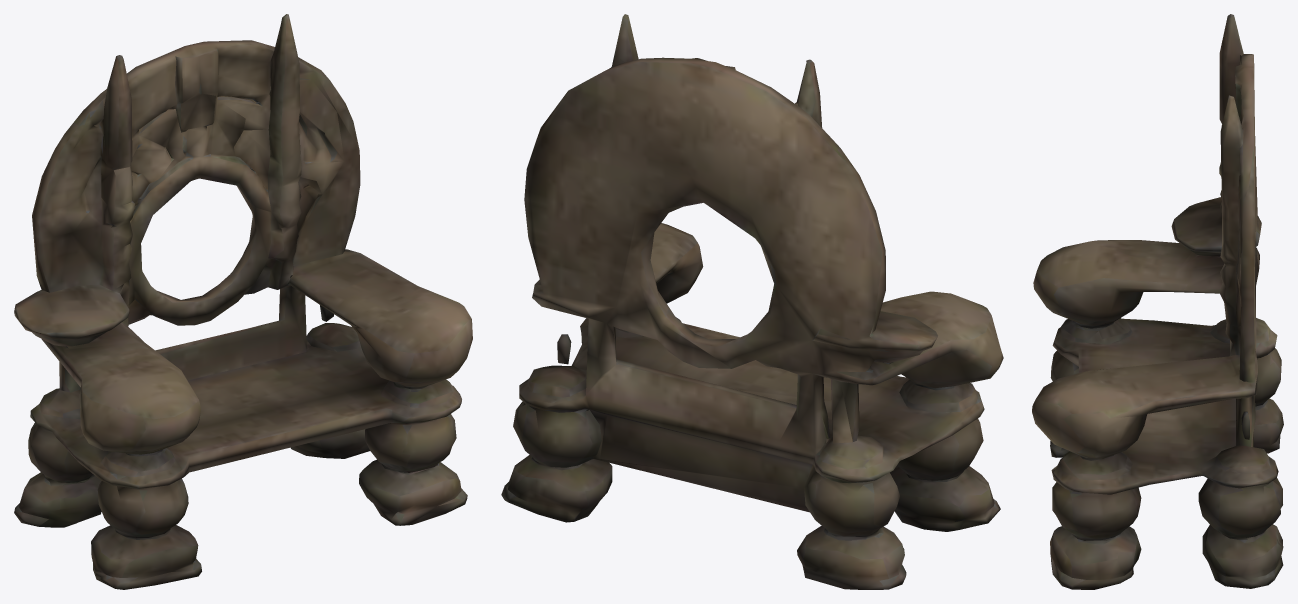
File: sturdy-wood-throne-v001.glb
3 views of the same model, side by side, from view 1: azimuth 30°, elevation 25°; view 2: azimuth 150°, elevation 25°; view 3: azimuth 270°, elevation 25° (orthographic). The views are drawn at different scales.
Parts seen in each view (by area): view 1: sturdy-wood-throne; view 2: sturdy-wood-throne; view 3: sturdy-wood-throne.
Boxes of the visible parts, bbox=[...] form: sturdy-wood-throne: bbox=[14, 14, 472, 589]; sturdy-wood-throne: bbox=[501, 14, 1003, 589]; sturdy-wood-throne: bbox=[1032, 14, 1283, 589].
Bounding box in the file's own units: 1.64 × 1.83 × 0.9303.
Materials: 1 (1 with a texture image).
